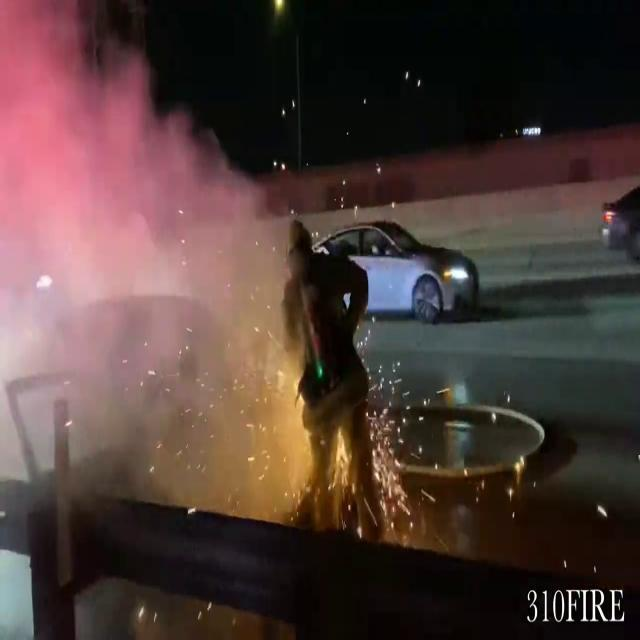Smoke: (0, 1, 292, 498)
